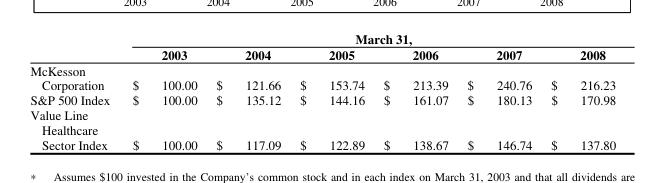table: (29, 29, 615, 152)
table column: (29, 29, 120, 152), (120, 29, 206, 152), (289, 29, 373, 152), (373, 29, 457, 152), (206, 29, 289, 152), (457, 29, 540, 152), (540, 29, 615, 152)
table column header: (29, 29, 615, 62)
table row: (29, 106, 615, 152), (29, 62, 615, 91), (29, 29, 615, 46), (29, 46, 615, 62), (29, 91, 615, 106)
table spanning cell: (120, 29, 615, 46)
